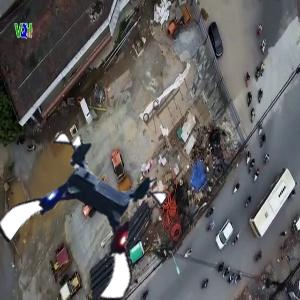drone: (14, 144, 165, 295)
